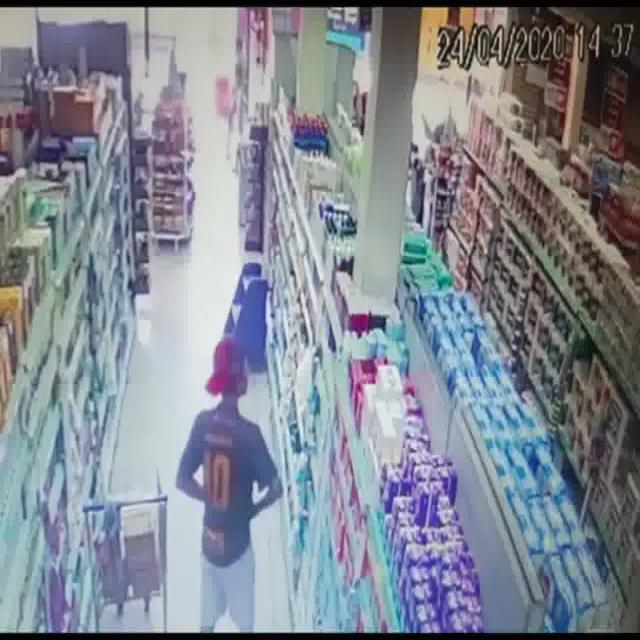persone: (173, 330, 288, 613)
